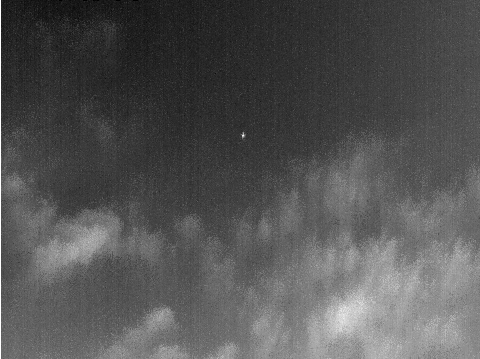dim target: (240, 132, 246, 139)
